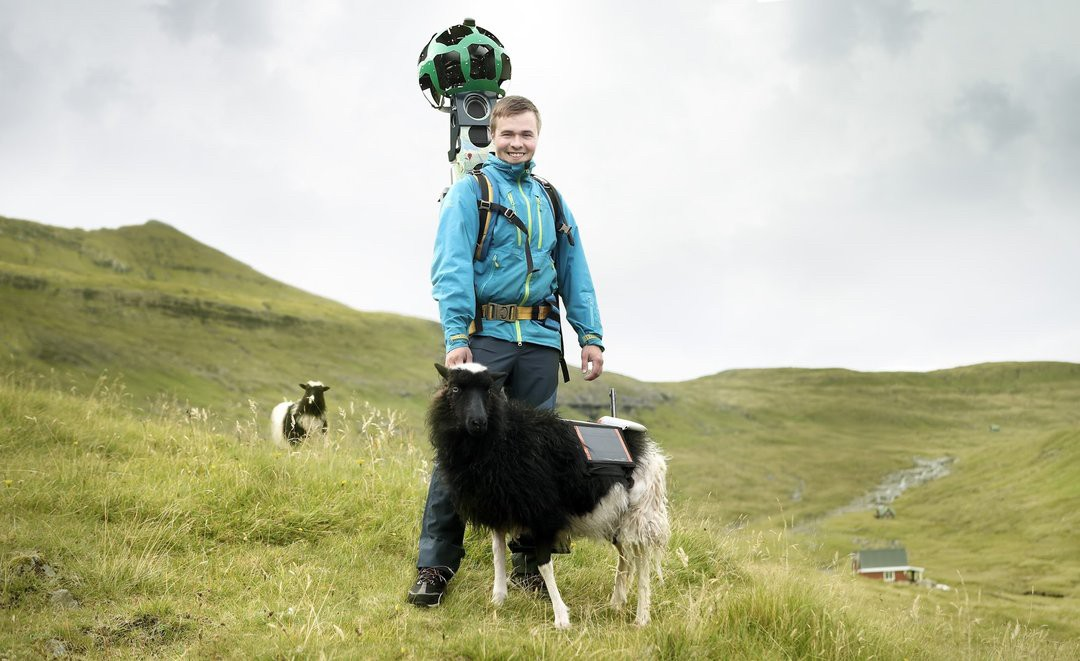people: (447, 88, 582, 567)
